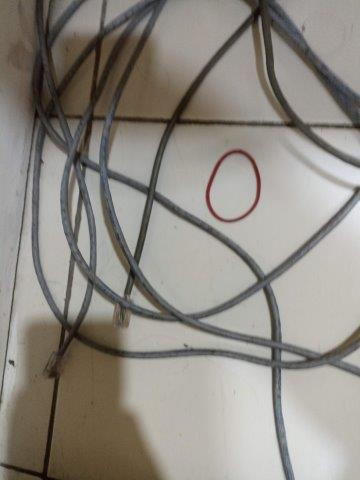karet: (205, 149, 262, 223)
